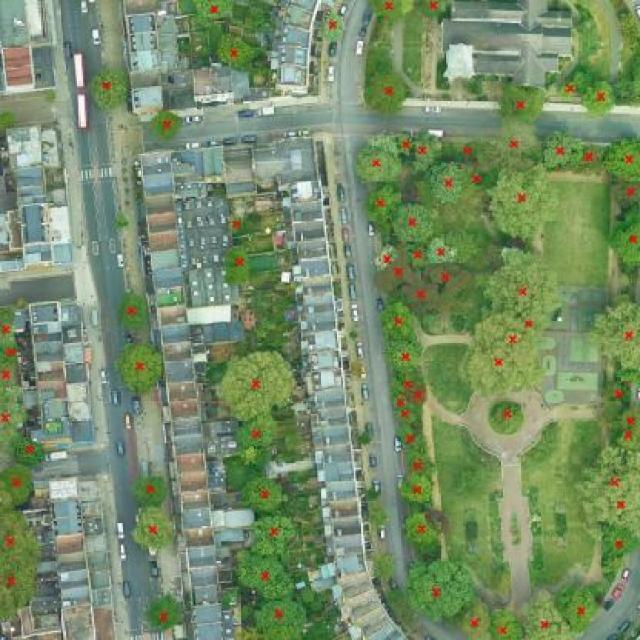tree: (481, 163, 565, 245), (213, 349, 302, 426), (397, 551, 481, 624), (456, 340, 547, 406), (478, 255, 567, 321), (471, 312, 547, 383), (226, 537, 306, 603), (584, 291, 640, 373), (111, 337, 169, 401), (484, 118, 548, 175), (0, 549, 46, 628), (119, 503, 185, 554), (0, 504, 52, 566), (517, 587, 577, 640), (488, 79, 554, 127), (249, 508, 308, 561), (601, 202, 640, 280), (249, 595, 314, 640), (572, 486, 640, 529), (365, 251, 427, 297), (359, 68, 413, 120), (233, 475, 296, 519), (139, 586, 192, 637), (83, 64, 134, 116), (347, 143, 407, 186), (535, 122, 580, 178), (359, 182, 407, 233), (566, 462, 640, 495), (594, 131, 640, 184), (0, 462, 45, 516), (422, 161, 473, 208), (210, 30, 261, 76), (503, 304, 559, 345), (554, 587, 603, 633), (228, 411, 284, 451), (112, 289, 157, 338), (0, 394, 34, 458), (580, 73, 622, 124), (398, 510, 449, 552), (397, 276, 448, 318), (390, 201, 439, 244), (217, 239, 257, 290), (127, 472, 176, 513), (10, 432, 55, 476), (380, 335, 426, 378), (452, 133, 503, 170), (145, 104, 191, 145), (377, 299, 418, 344), (185, 0, 244, 29), (409, 127, 446, 173), (594, 525, 640, 561), (395, 471, 437, 509), (489, 396, 526, 438), (315, 6, 350, 49), (569, 141, 606, 181), (219, 453, 253, 496), (609, 174, 640, 221), (489, 600, 525, 640), (364, 0, 418, 26), (388, 423, 434, 452), (459, 601, 493, 640), (592, 446, 639, 472), (596, 379, 638, 408), (427, 235, 461, 270), (405, 373, 433, 415), (402, 240, 433, 274), (370, 238, 399, 273), (423, 260, 457, 289), (383, 369, 419, 396), (402, 447, 433, 478), (607, 404, 640, 433), (607, 426, 640, 455), (624, 48, 640, 103), (388, 403, 426, 426), (222, 213, 253, 241), (414, 0, 452, 22), (366, 499, 392, 530), (386, 128, 411, 159), (0, 307, 22, 342), (372, 552, 396, 583), (0, 103, 23, 135), (0, 359, 22, 392), (381, 387, 415, 408), (554, 75, 581, 99), (491, 569, 515, 593), (112, 209, 133, 234), (0, 344, 28, 362), (386, 586, 403, 608), (362, 486, 383, 503), (357, 429, 372, 446)
